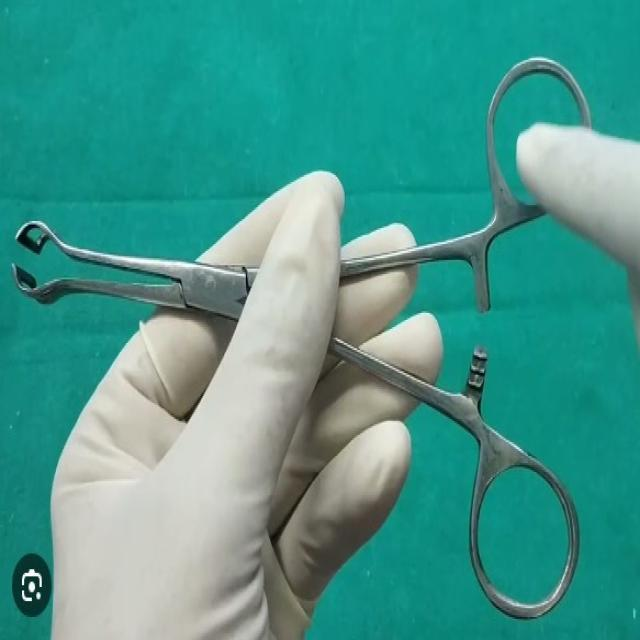Babcock Forceps: (7, 50, 588, 627)
